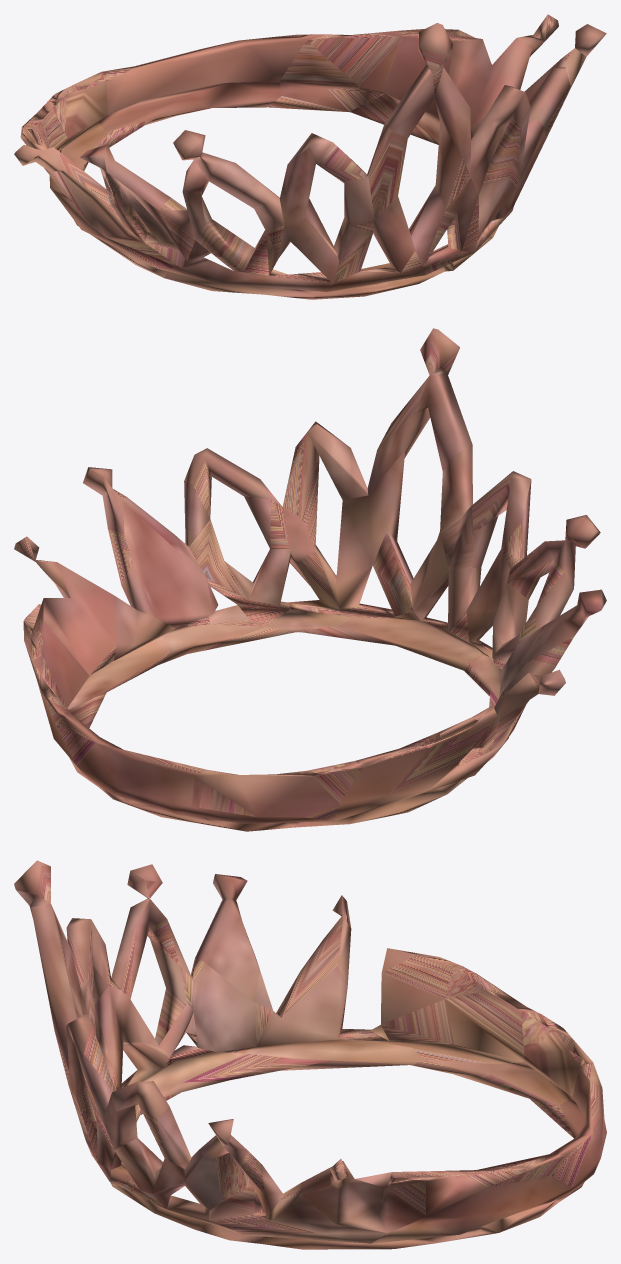
3 renders of one model, top to bottom at view 1: azimuth 30°, elevation 25°; view 2: azimuth 150°, elevation 25°; view 3: azimuth 270°, elevation 25°, orthographic. The views are drawn at different scales.
Visible parts, largest first — view 1: Pink-Tiara-07; view 2: Pink-Tiara-07; view 3: Pink-Tiara-07.
Part boxes in pixels (bbox=[...]): Pink-Tiara-07: bbox=[14, 14, 606, 299]; Pink-Tiara-07: bbox=[14, 328, 606, 831]; Pink-Tiara-07: bbox=[14, 860, 606, 1249].
Size of the model in its own units: 0.2787 by 0.1414 by 0.2529.
Materials: 1 (1 with a texture image).
